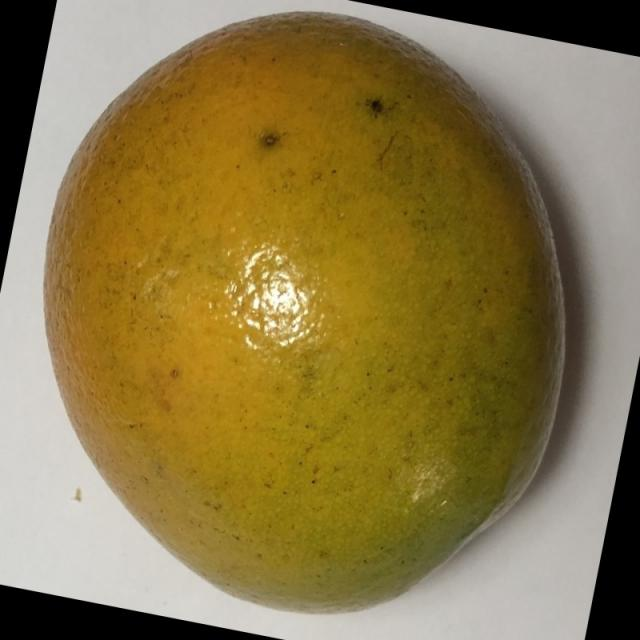blackspot: (29, 8, 580, 627)
